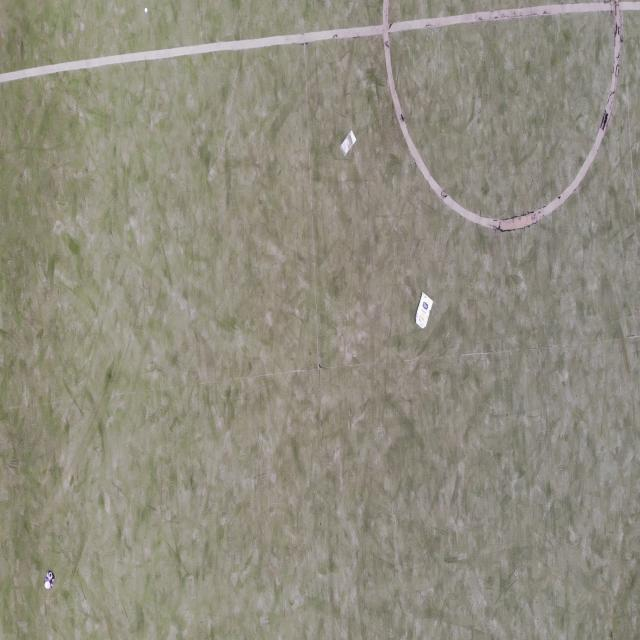rubbish: (415, 292, 433, 330), (340, 129, 356, 157), (44, 569, 54, 590), (144, 6, 146, 12)
